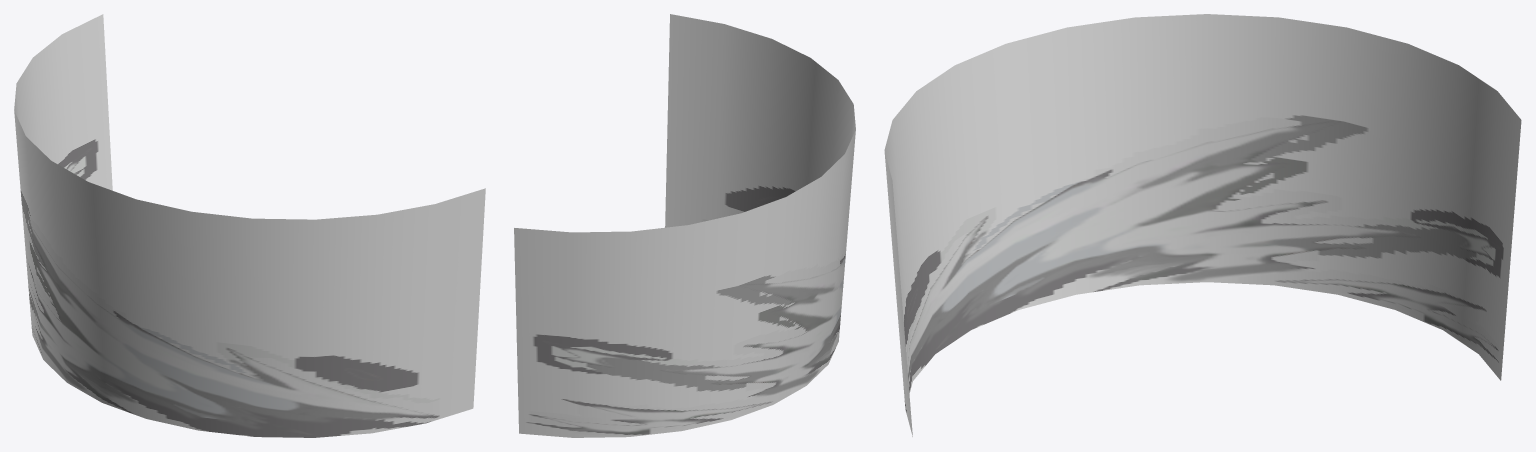
Rendered from eff_smoke_13.FBX.
The picture shows the model from 3 angles, left to right: view 1: azimuth 30°, elevation 25°; view 2: azimuth 150°, elevation 25°; view 3: azimuth 270°, elevation 25°; orthographic projection. The views are drawn at different scales.
Parts seen in each view (by area): view 1: eff_smoke_13; view 2: eff_smoke_13; view 3: eff_smoke_13.
Part boxes in pixels (box(x1,y1,x2,y2)): eff_smoke_13: box(14, 14, 485, 437); eff_smoke_13: box(514, 14, 855, 437); eff_smoke_13: box(884, 14, 1521, 436).
Size of the model in its own units: 133 by 96.14 by 214.
Materials: 1 (1 with a texture image).
